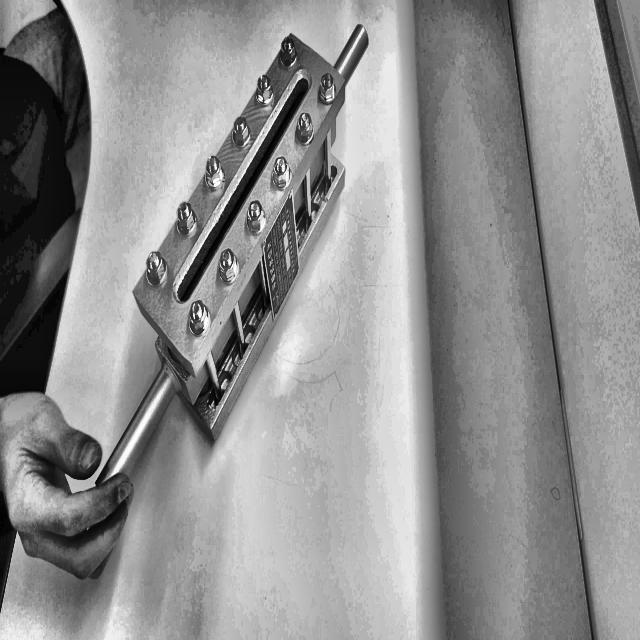ShuiWeiQi_12: (118, 12, 374, 467)
